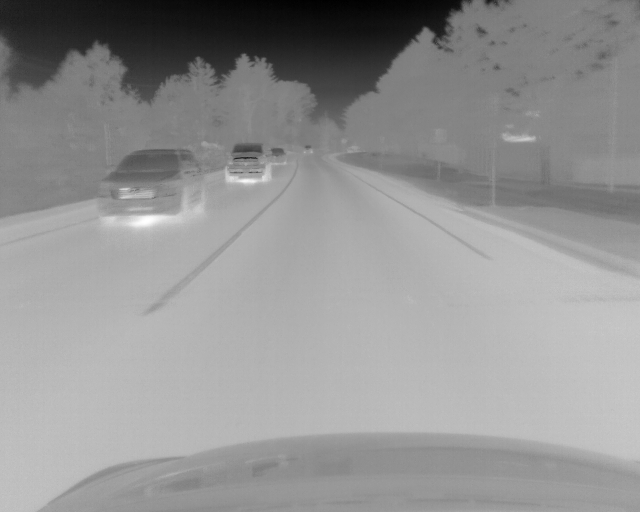car: (98, 148, 204, 218), (224, 143, 271, 182), (269, 147, 287, 166), (302, 144, 314, 154)
